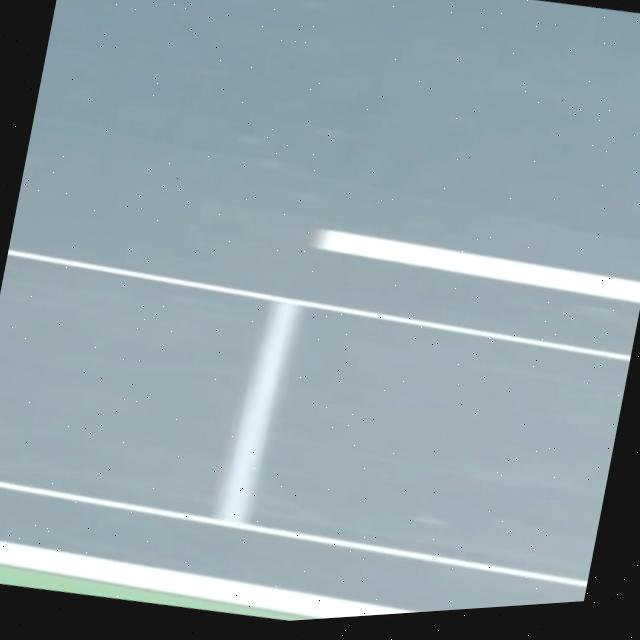center: (312, 229, 640, 303)
right: (0, 540, 423, 618)
